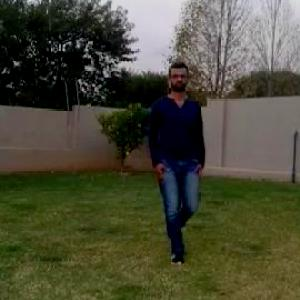follow: (157, 71, 201, 249)
